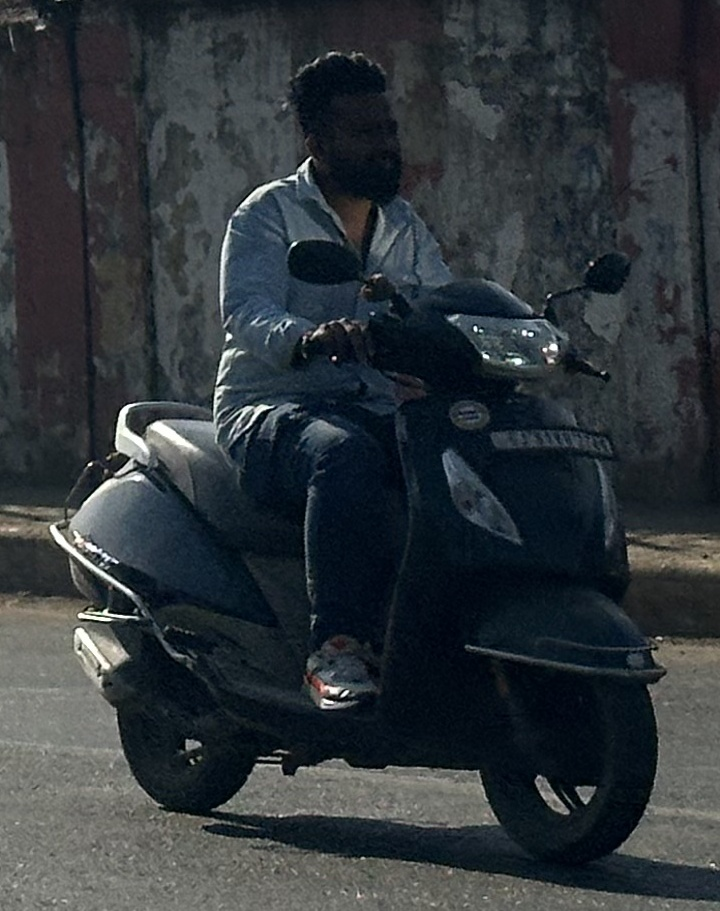BikeWithRider: (39, 36, 681, 879)
NoHelmet: (273, 40, 421, 204)
